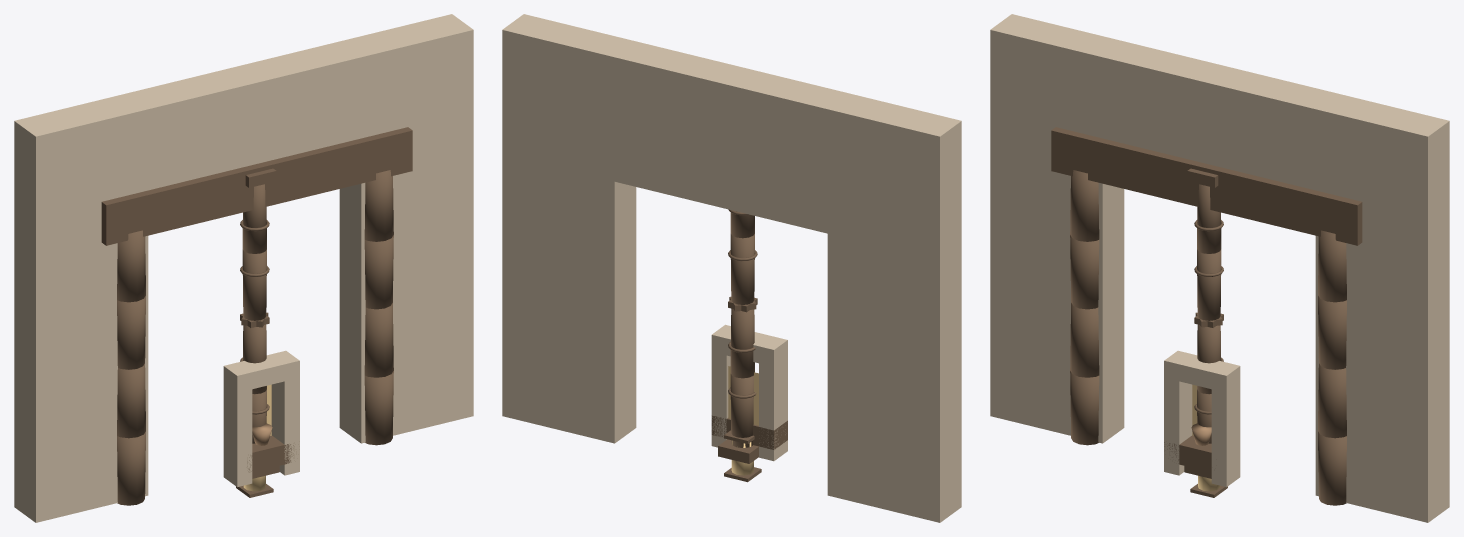
File: traditions.glb
3 renders of one model, left to right at view 1: azimuth 30°, elevation 25°; view 2: azimuth 150°, elevation 25°; view 3: azimuth 330°, elevation 25°, orthographic.
Visible parts, largest first — view 1: Plaster_shoulder, Plaster_shoulder.001, Plaster_header, Wood_lintel, Plaster_nL, Plaster_nR, Wood_post.001, Wood_post.005, Wood_post, Wood_post.002, Wood_post.004, Wood_post.006 (+7 smaller); view 2: Plaster_shoulder, Plaster_shoulder.001, Plaster_header, Plaster_nL, Plaster_nR, Wood_postshaft.002, Wood_postshaft.001, Wood_postshaft, Plaster_nT, Wood_nShelf, Wood_postbase, Wood_postshaft.003; view 3: Plaster_shoulder.001, Plaster_shoulder, Plaster_header, Wood_lintel, Plaster_nR, Plaster_nL, Wood_post.005, Wood_post.001, Wood_post.004, Wood_post.006, Wood_post, Wood_post.002 (+7 smaller).
Boxes of the visible parts, x1=… form: Plaster_shoulder: x1=14, y1=93, x2=148, y2=522; Plaster_shoulder.001: x1=339, y1=14, x2=473, y2=443; Plaster_header: x1=127, y1=41, x2=367, y2=191; Wood_lintel: x1=101, y1=127, x2=412, y2=245; Plaster_nL: x1=223, y1=362, x2=252, y2=487; Plaster_nR: x1=271, y1=350, x2=299, y2=475; Wood_post.001: x1=117, y1=363, x2=145, y2=438; Wood_post.005: x1=364, y1=303, x2=393, y2=377; Wood_post: x1=117, y1=431, x2=145, y2=505; Wood_post.002: x1=117, y1=296, x2=145, y2=369; Wood_post.004: x1=364, y1=371, x2=393, y2=445; Wood_post.006: x1=364, y1=235, x2=393, y2=309; Plaster_shoulder: x1=827, y1=93, x2=961, y2=522; Plaster_shoulder.001: x1=502, y1=14, x2=636, y2=443; Plaster_header: x1=608, y1=41, x2=848, y2=234; Plaster_nL: x1=759, y1=339, x2=787, y2=461; Plaster_nR: x1=711, y1=324, x2=730, y2=447; Wood_postshaft.002: x1=730, y1=234, x2=754, y2=304; Wood_postshaft.001: x1=730, y1=308, x2=754, y2=378; Wood_postshaft: x1=730, y1=374, x2=753, y2=447; Plaster_nT: x1=711, y1=326, x2=787, y2=366; Wood_nShelf: x1=711, y1=415, x2=787, y2=449; Wood_postbase: x1=718, y1=439, x2=758, y2=463; Wood_postshaft.003: x1=730, y1=212, x2=754, y2=238; Plaster_shoulder.001: x1=1315, y1=93, x2=1449, y2=522; Plaster_shoulder: x1=990, y1=14, x2=1124, y2=443; Plaster_header: x1=1096, y1=41, x2=1336, y2=190; Wood_lintel: x1=1051, y1=127, x2=1362, y2=245; Plaster_nR: x1=1211, y1=362, x2=1240, y2=487; Plaster_nL: x1=1164, y1=350, x2=1192, y2=475; Wood_post.005: x1=1318, y1=363, x2=1346, y2=438; Wood_post.001: x1=1070, y1=303, x2=1099, y2=377; Wood_post.004: x1=1318, y1=431, x2=1346, y2=505; Wood_post.006: x1=1318, y1=296, x2=1346, y2=369; Wood_post: x1=1070, y1=371, x2=1099, y2=445; Wood_post.002: x1=1070, y1=235, x2=1099, y2=309.
Bounding box in the file's own units: 7 × 6.22 × 0.98.
